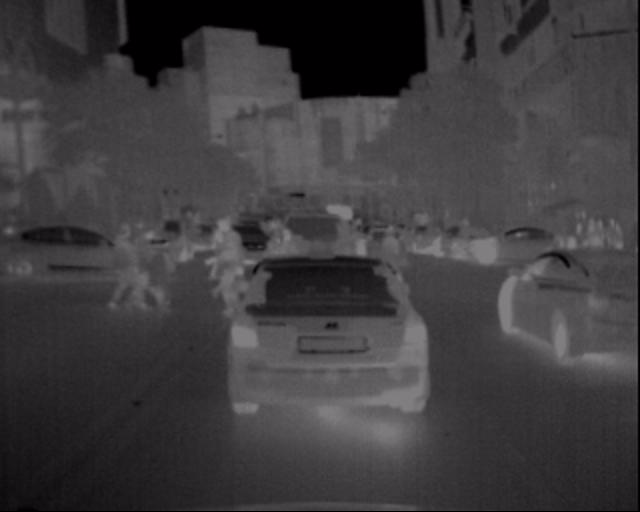person: (116, 217, 180, 323), (201, 209, 254, 324), (102, 215, 156, 322), (272, 219, 323, 314), (206, 218, 248, 306), (373, 217, 408, 303), (265, 226, 300, 312), (573, 205, 633, 255)
